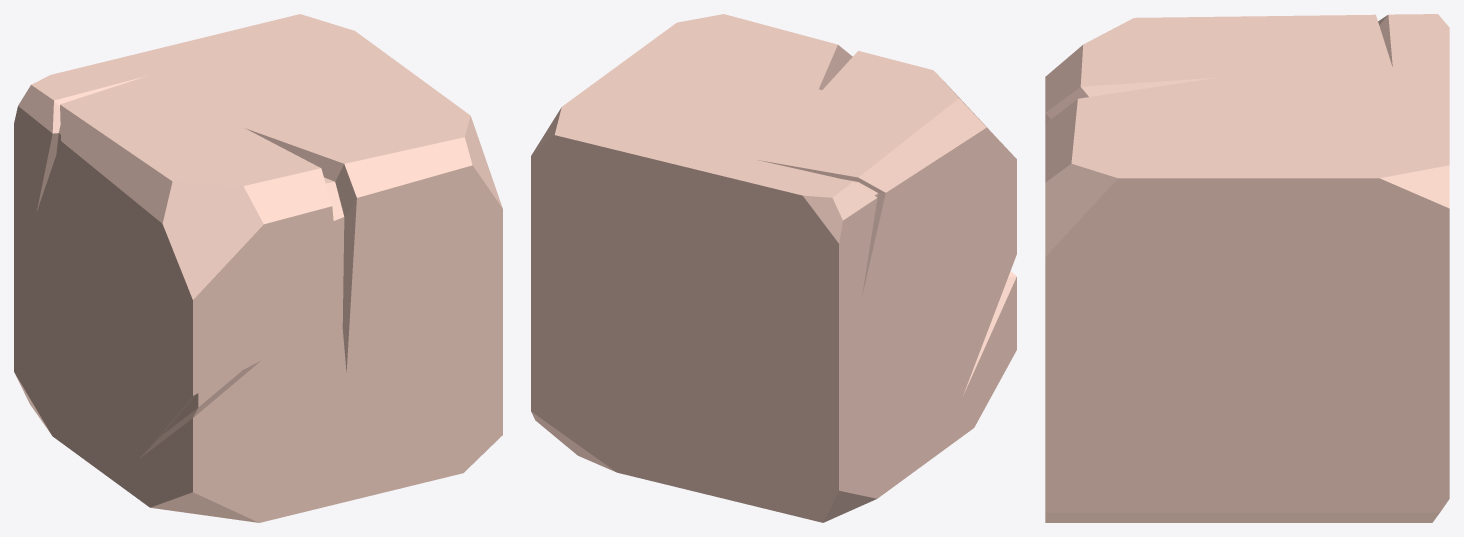
Rendered from Stone 10.fbx.
3 renders of one model, left to right at view 1: azimuth 30°, elevation 25°; view 2: azimuth 150°, elevation 25°; view 3: azimuth 270°, elevation 25°, orthographic. The views are drawn at different scales.
Visible parts, largest first — view 1: Stone 10; view 2: Stone 10; view 3: Stone 10.
Part boxes in pixels (box(x1,y1,x2,y2)): Stone 10: box(14, 14, 502, 522); Stone 10: box(531, 14, 1016, 522); Stone 10: box(1045, 14, 1449, 522).
Size of the model in its own units: 200 by 200 by 200.
